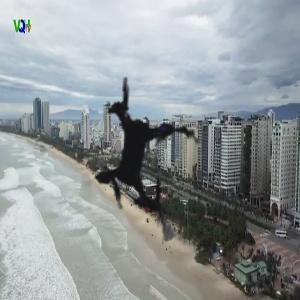drone: (18, 36, 266, 284)
